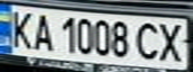0: (90, 16, 112, 57), (75, 16, 93, 55)
1: (54, 14, 78, 54)
8: (109, 18, 133, 60)
A: (27, 10, 57, 52)
C: (133, 19, 163, 62)
K: (3, 7, 36, 51)
X: (154, 19, 190, 63)
